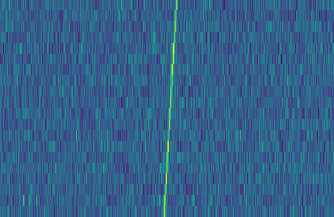signal: (159, 0, 180, 217)
